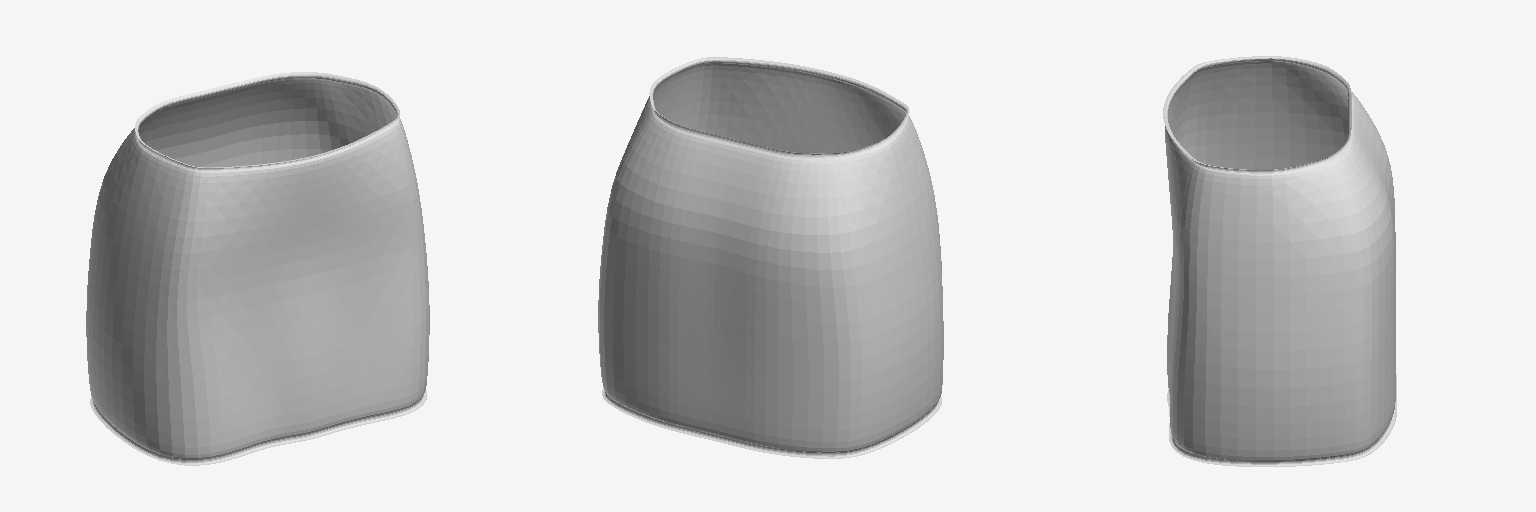
Rendered from short_skirt_checked.obj.
The picture shows the model from 3 angles: view 1: azimuth 30°, elevation 25°; view 2: azimuth 150°, elevation 25°; view 3: azimuth 270°, elevation 25°; orthographic projection.
Visible parts, largest first — view 1: A3skirt01; view 2: A3skirt01; view 3: A3skirt01.
Boxes of the visible parts, x1,y1,x2,y2 form: A3skirt01: [86, 72, 429, 465]; A3skirt01: [598, 57, 943, 458]; A3skirt01: [1163, 56, 1396, 466].
Bounding box in the file's own units: 0.2646 × 0.2456 × 0.1815.